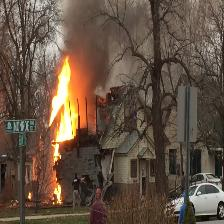fire: (54, 60, 73, 146)
smoke: (77, 7, 106, 98)
